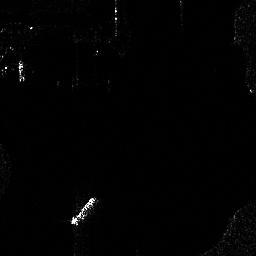ship: (69, 196, 96, 226), (16, 58, 26, 83)
